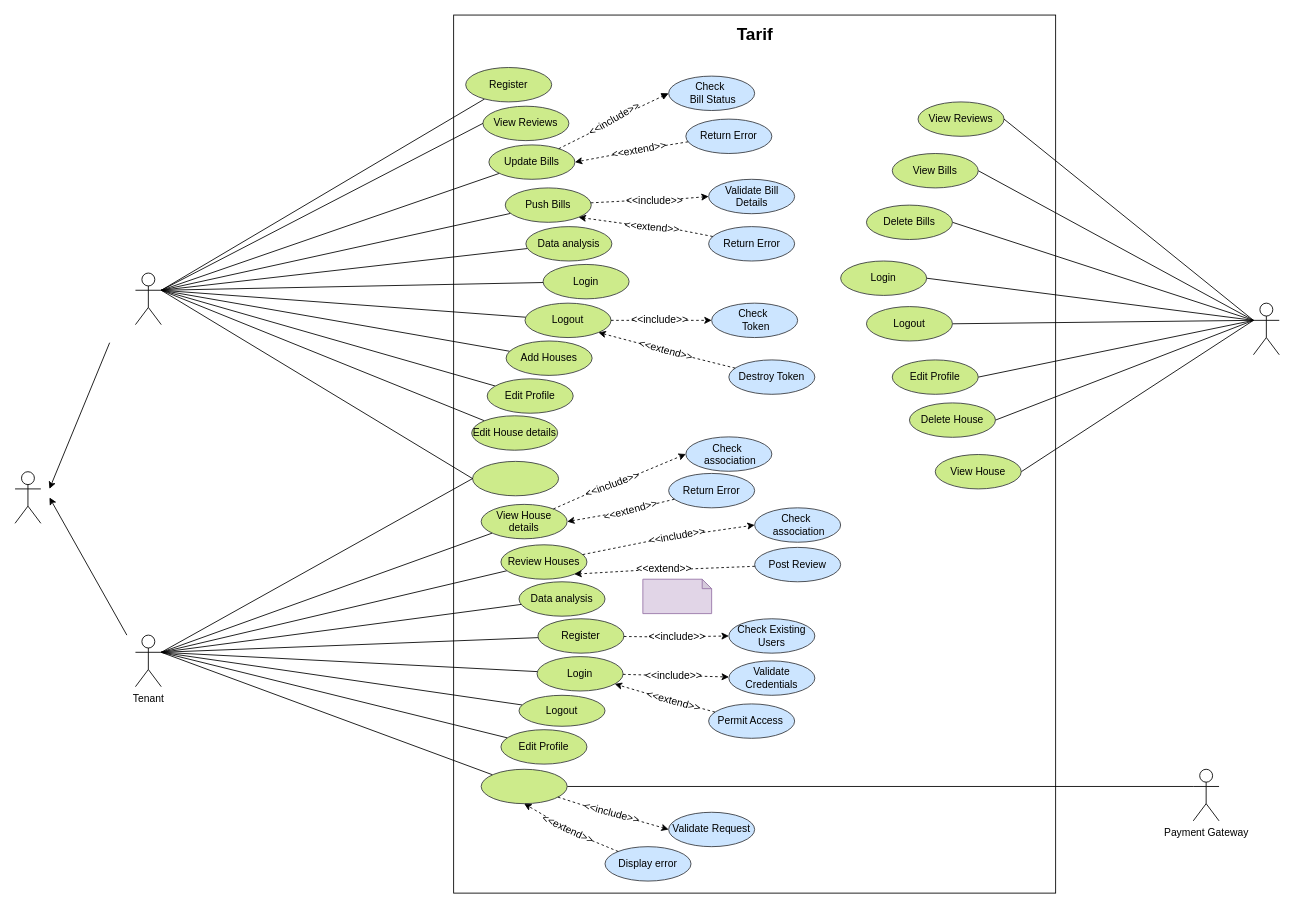
The diagram is 1305 pixels wide and 908 high, and some of its shapes have lost their labels. Each missing label, with the centre of its shape:
"HouseHolder" belongs at (148,298).
"If Associated" belongs at (677,596).
"Pay Bills" belongs at (523,786).
"SuperUser" belongs at (1266,328).
"User" belongs at (27,497).
"View Bill" belongs at (515,478).
